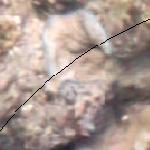alive: (6, 4, 146, 145)
